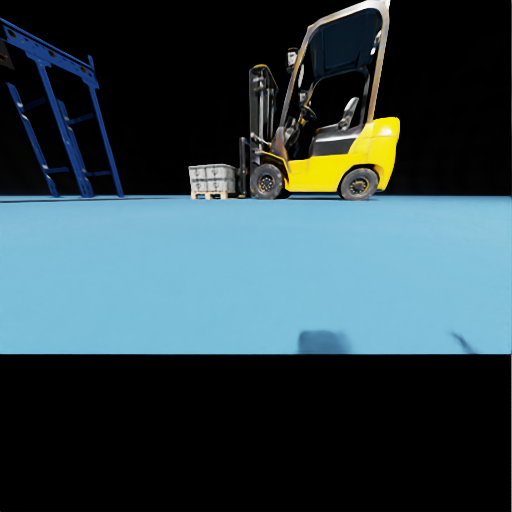transportation_area: (207, 178, 239, 191), (25, 39, 27, 40), (36, 44, 37, 45)
